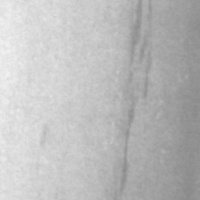inclusion: (109, 0, 161, 153), (108, 98, 140, 199)
